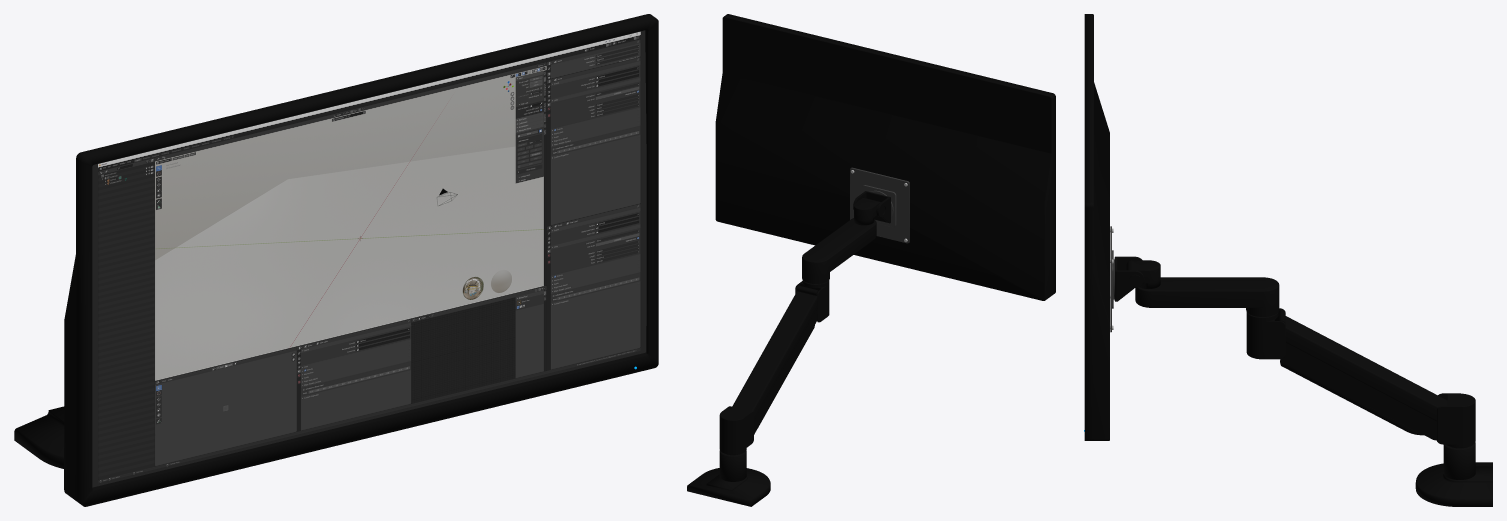
The model's file is monitor.glb.
3 renders of one model, left to right at view 1: azimuth 30°, elevation 25°; view 2: azimuth 150°, elevation 25°; view 3: azimuth 270°, elevation 25°, orthographic. The views are drawn at different scales.
Visible parts, largest first — view 1: monitor-27in-zg-frame_0, monitorMount-zg-base_8; view 2: monitor-27in-zg-frame_0, monitorMount-zg-arm_1_6, monitorMount-zg-base_8, monitorMount-zg-arm_2_4, monitorMount-zg-piv_5_1, monitorMount-zg-piv_1_7, monitorMount-zg-piv_2_5, monitorMount-zg-piv_3_3, monitorMount-zg-piv_4_2; view 3: monitor-27in-zg-frame_0, monitorMount-zg-arm_1_6, monitorMount-zg-arm_2_4, monitorMount-zg-base_8, monitorMount-zg-piv_1_7, monitorMount-zg-piv_2_5, monitorMount-zg-piv_4_2, monitorMount-zg-piv_3_3.
Part boxes in pixels (x1,y1,x2,y2): monitor-27in-zg-frame_0: (64,14,658,506); monitorMount-zg-base_8: (14,406,64,468); monitor-27in-zg-frame_0: (715,14,1055,300); monitorMount-zg-arm_1_6: (731,285,818,434); monitorMount-zg-base_8: (687,450,770,506); monitorMount-zg-arm_2_4: (802,218,876,283); monitorMount-zg-piv_5_1: (850,167,909,243); monitorMount-zg-piv_1_7: (719,406,753,455); monitorMount-zg-piv_2_5: (795,280,829,322); monitorMount-zg-piv_3_3: (854,197,880,225); monitorMount-zg-piv_4_2: (853,191,890,223); monitor-27in-zg-frame_0: (1084,14,1109,440); monitorMount-zg-arm_1_6: (1274,309,1447,440); monitorMount-zg-arm_2_4: (1135,277,1279,316); monitorMount-zg-base_8: (1415,442,1492,506); monitorMount-zg-piv_1_7: (1437,393,1475,448); monitorMount-zg-piv_2_5: (1246,308,1285,359); monitorMount-zg-piv_4_2: (1114,256,1144,301); monitorMount-zg-piv_3_3: (1126,260,1160,288).
Bounding box in the file's own units: 0.6201 × 0.574 × 0.5597.
Materials: 5 (1 with a texture image).
